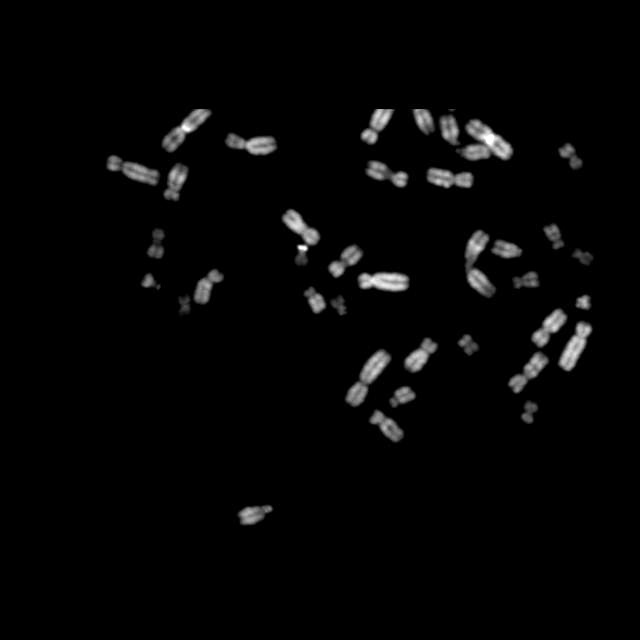chromosome: (345, 349, 391, 406), (441, 115, 491, 158), (465, 230, 495, 298), (163, 110, 213, 150), (508, 351, 550, 393), (468, 120, 512, 160), (558, 322, 592, 372), (106, 157, 158, 186), (282, 208, 318, 246), (532, 308, 566, 348), (404, 336, 438, 372), (362, 110, 392, 144), (358, 271, 408, 291), (371, 411, 403, 442), (227, 134, 276, 154), (330, 246, 362, 276), (368, 162, 408, 186), (195, 270, 222, 304), (428, 169, 472, 189), (164, 164, 188, 200), (239, 504, 273, 524), (560, 142, 582, 170), (304, 286, 324, 314), (492, 240, 522, 258), (545, 224, 565, 250), (390, 387, 414, 408), (146, 230, 164, 258), (458, 334, 480, 356), (514, 273, 538, 291), (521, 401, 539, 423), (332, 294, 348, 316), (574, 248, 592, 264), (142, 275, 160, 291), (295, 245, 309, 265), (178, 296, 192, 316), (576, 294, 590, 312)
